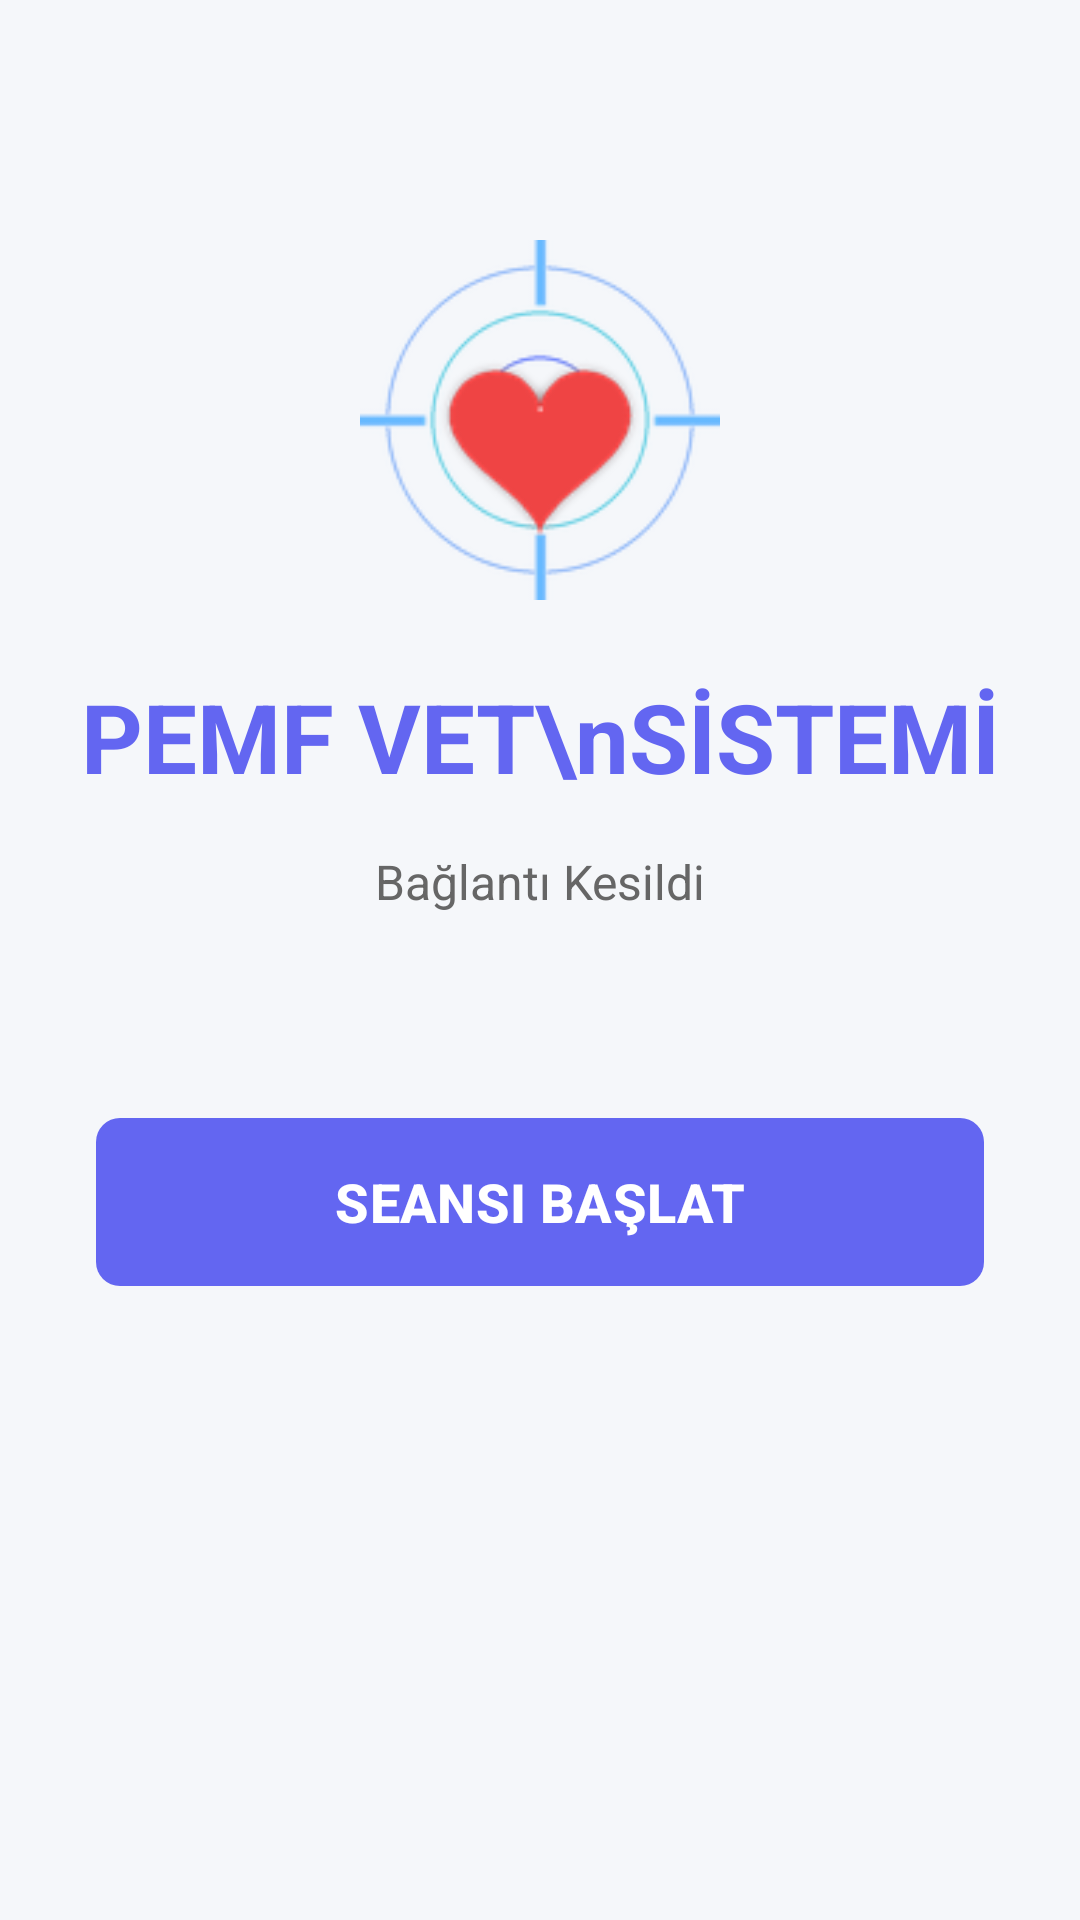

Named icons in this screenshot (1080w x 1920h) and their bounding boxes, (left=x1, top=y1, right=x2, bottom=y2):
pemf heart emf: (left=360, top=240, right=720, bottom=600)
